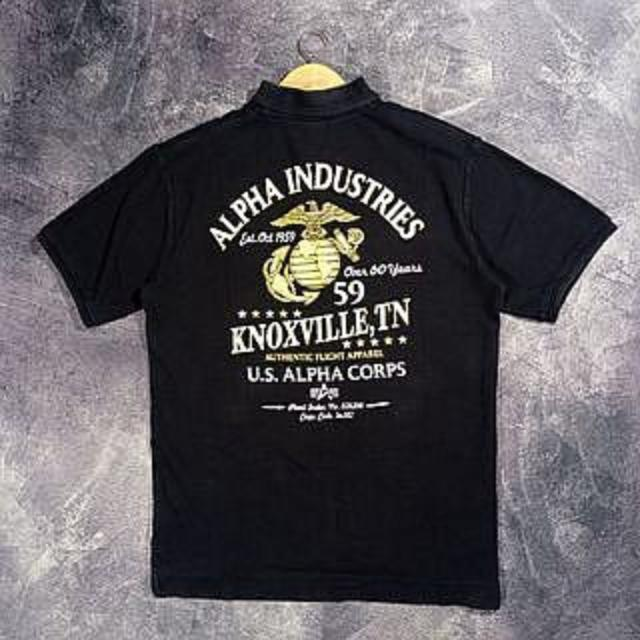T_SHIRT: (25, 78, 620, 613)
